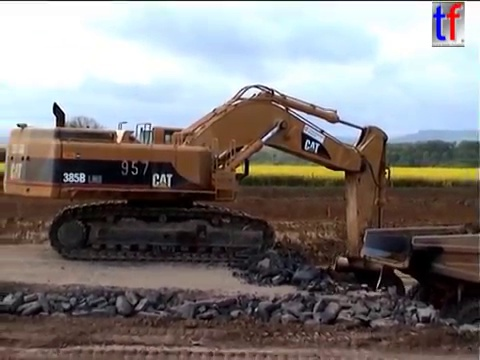excavator: (1, 82, 408, 328)
truck: (357, 222, 480, 352)
